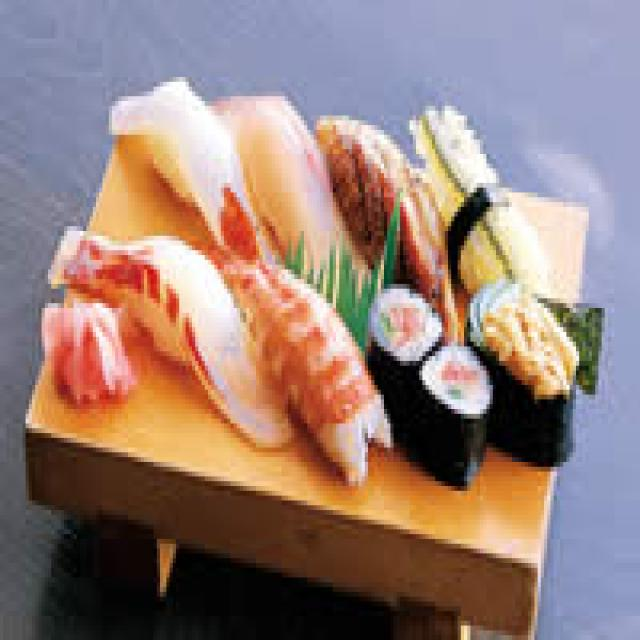寿司卷物: (28, 72, 618, 568)
